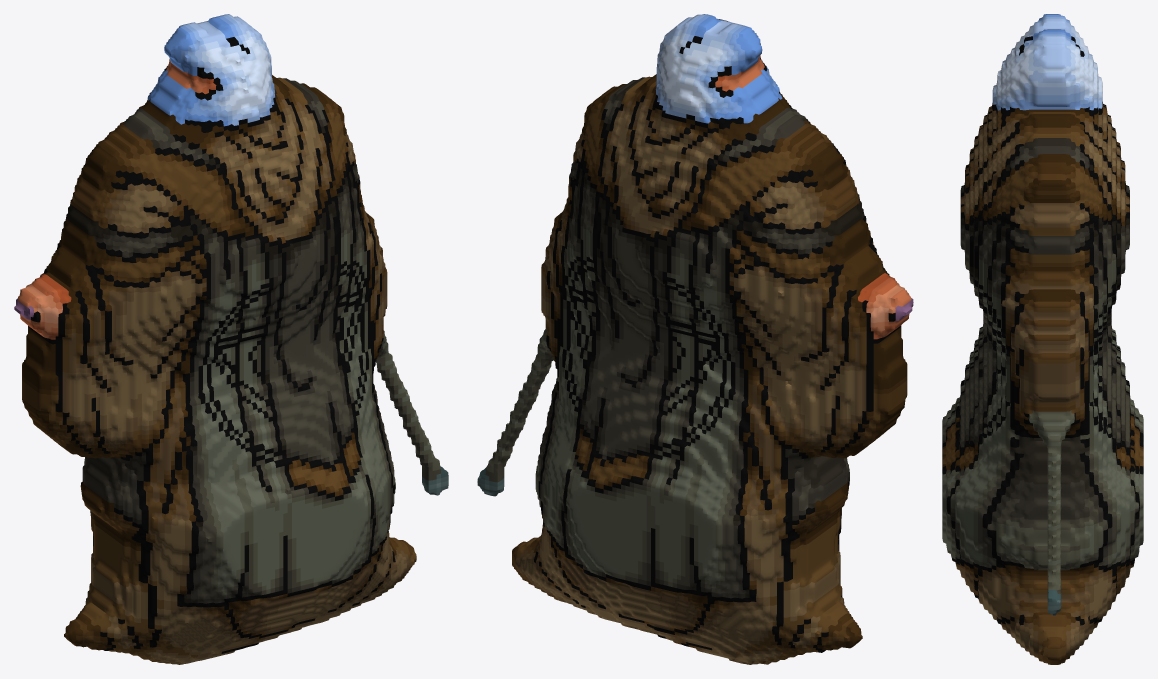
File: Fight_021_1_01.obj
3 renders of one model, left to right at view 1: azimuth 30°, elevation 25°; view 2: azimuth 150°, elevation 25°; view 3: azimuth 270°, elevation 25°, orthographic. The views are drawn at different scales.
Bounding box in the file's own units: 9.98 × 13.9 × 4.4.
1 material, 1 textured.
